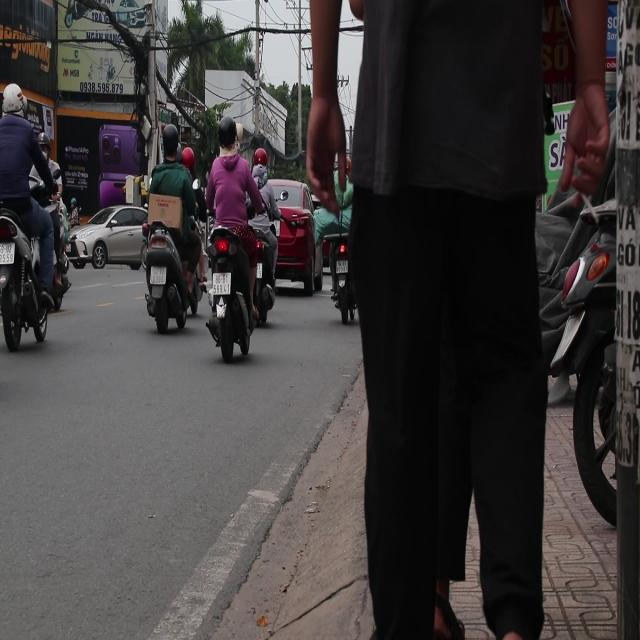car: (266, 178, 318, 294), (68, 204, 150, 271)
motorbike: (542, 146, 640, 586), (0, 191, 53, 351), (201, 219, 257, 362), (140, 221, 193, 335), (246, 216, 279, 328), (324, 234, 356, 325)
